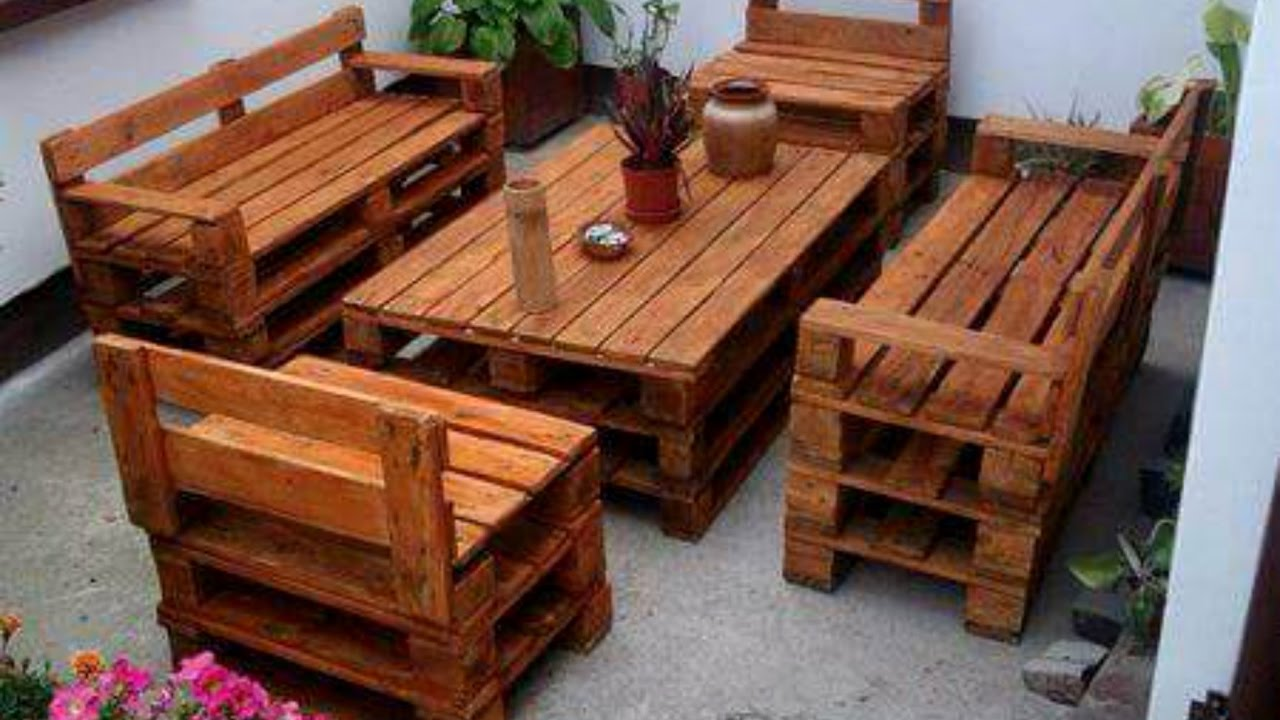chairs: (778, 76, 1217, 645), (80, 329, 632, 720), (24, 1, 519, 366), (682, 1, 956, 235)
